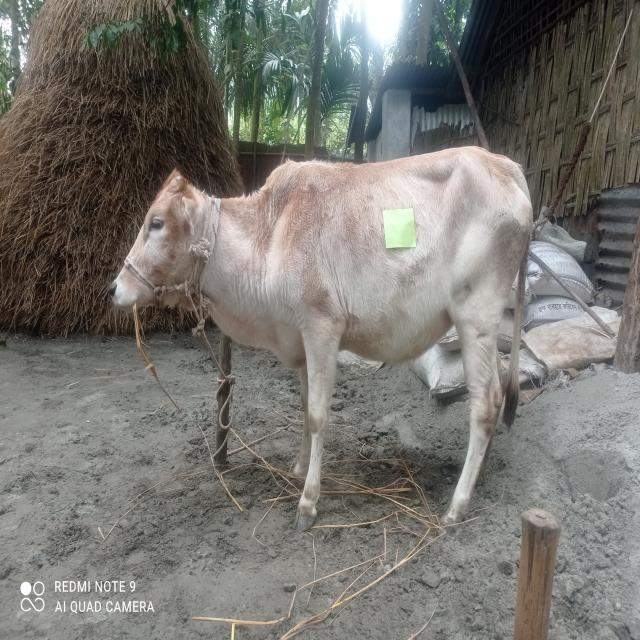badan_sapi: (293, 166, 518, 360)
sapi: (105, 140, 531, 528)
